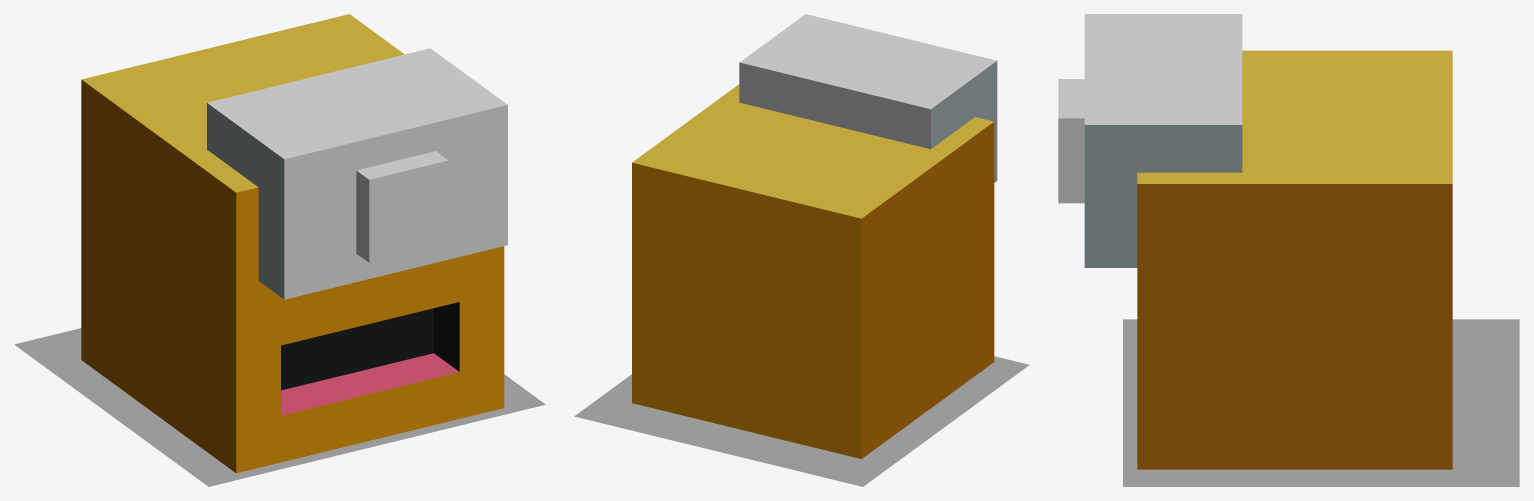
File: EN_TinyBit_Yellow.fbx
3 views of the same model, side by side, from view 1: azimuth 30°, elevation 25°; view 2: azimuth 150°, elevation 25°; view 3: azimuth 270°, elevation 25° (orthographic). The views are drawn at different scales.
Visible parts, largest first — view 1: Body, Eye, Mouth, Shadow, Pupil; view 2: Body, Eye, Shadow; view 3: Body, Eye, Shadow, Pupil.
Part boxes in pixels (x1,y1,x2,y2): Body: (81,14,504,473); Eye: (207,48,507,299); Mouth: (281,353,459,462); Shadow: (14,328,545,486); Pupil: (356,151,448,262); Body: (632,84,994,458); Eye: (739,14,997,182); Shadow: (574,356,1029,486); Body: (1137,50,1452,469); Eye: (1084,14,1242,267); Shadow: (1123,319,1519,486); Pupil: (1058,79,1084,203).
Size of the model in its own units: 37.73 by 35 by 43.86.
